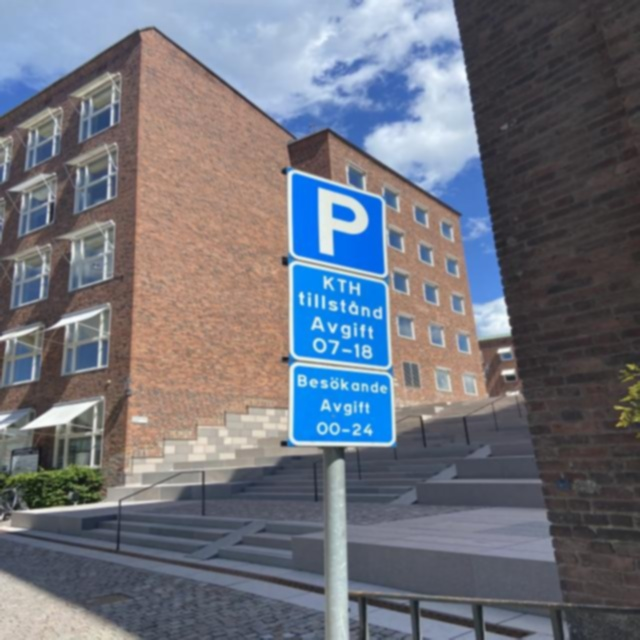P-skylt: (288, 170, 389, 278)
